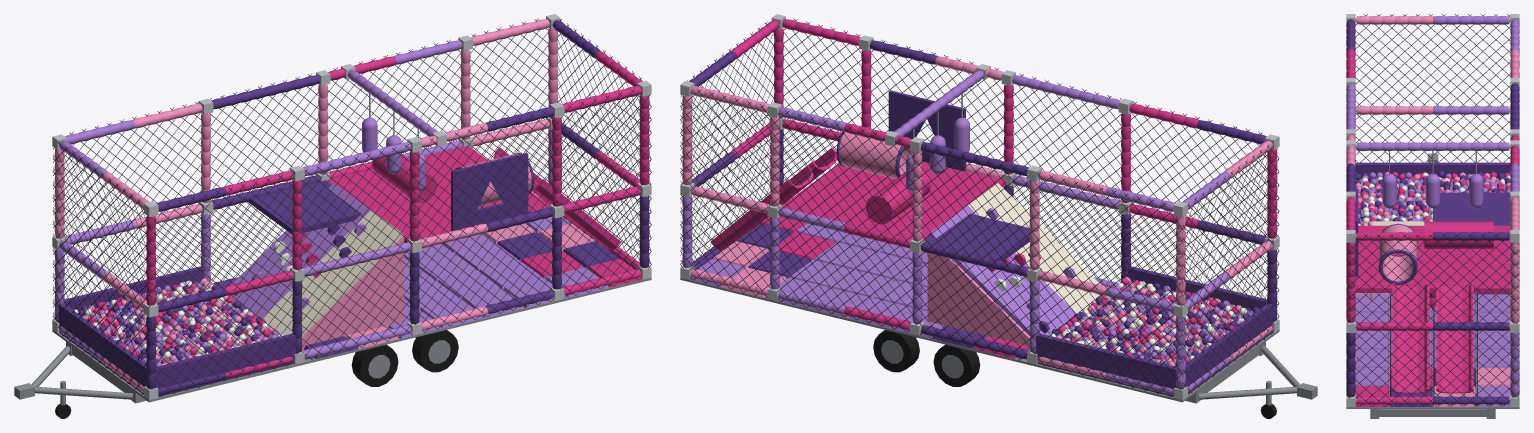
Rendered from web.glb.
3 views of the same model, side by side, from view 1: azimuth 30°, elevation 25°; view 2: azimuth 150°, elevation 25°; view 3: azimuth 270°, elevation 25° (orthographic). The views are drawn at different scales.
Visible parts, largest first — view 1: isotubo, rede, plataforma, piso, acolchoado, metal, bolinhas, plastico, borracha; view 2: isotubo, rede, plataforma, piso, acolchoado, metal, bolinhas, plastico, borracha; view 3: isotubo, rede, piso, plataforma, plastico, acolchoado, bolinhas, metal.
Part boxes in pixels (x1,y1,x2,y2): isotubo: [54, 19, 649, 394]; rede: [52, 18, 651, 396]; plataforma: [228, 145, 551, 349]; piso: [304, 216, 642, 358]; acolchoado: [55, 117, 534, 396]; metal: [14, 14, 651, 405]; bolinhas: [73, 278, 283, 366]; plastico: [234, 147, 621, 309]; borracha: [55, 330, 458, 418]; isotubo: [682, 19, 1277, 394]; rede: [680, 18, 1279, 396]; plataforma: [780, 90, 1100, 349]; piso: [689, 216, 1027, 358]; acolchoado: [836, 117, 1276, 396]; metal: [680, 14, 1317, 405]; bolinhas: [1049, 277, 1259, 366]; plastico: [710, 147, 1075, 333]; borracha: [873, 330, 1276, 418]; isotubo: [1346, 16, 1519, 405]; rede: [1346, 14, 1519, 406]; piso: [1355, 293, 1510, 406]; plataforma: [1355, 188, 1510, 300]; plastico: [1392, 217, 1473, 393]; acolchoado: [1355, 162, 1510, 284]; bolinhas: [1355, 170, 1510, 225]; metal: [1346, 14, 1519, 418].
Size of the model in its own units: 7 by 2.7 by 2.
Materials: 9 (9 with a texture image).
